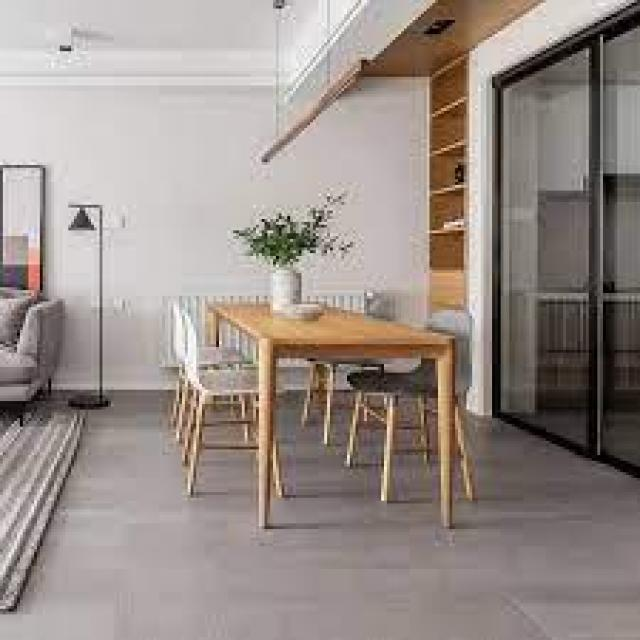table: (145, 230, 506, 560)
